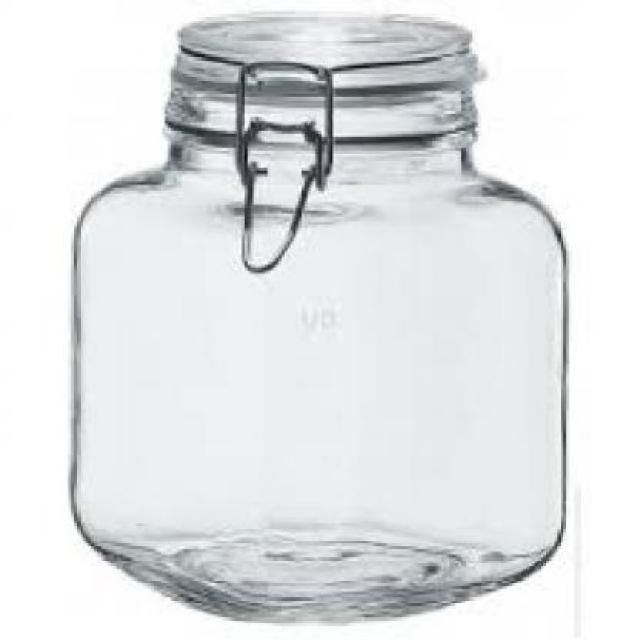kaca: (71, 14, 563, 617)
